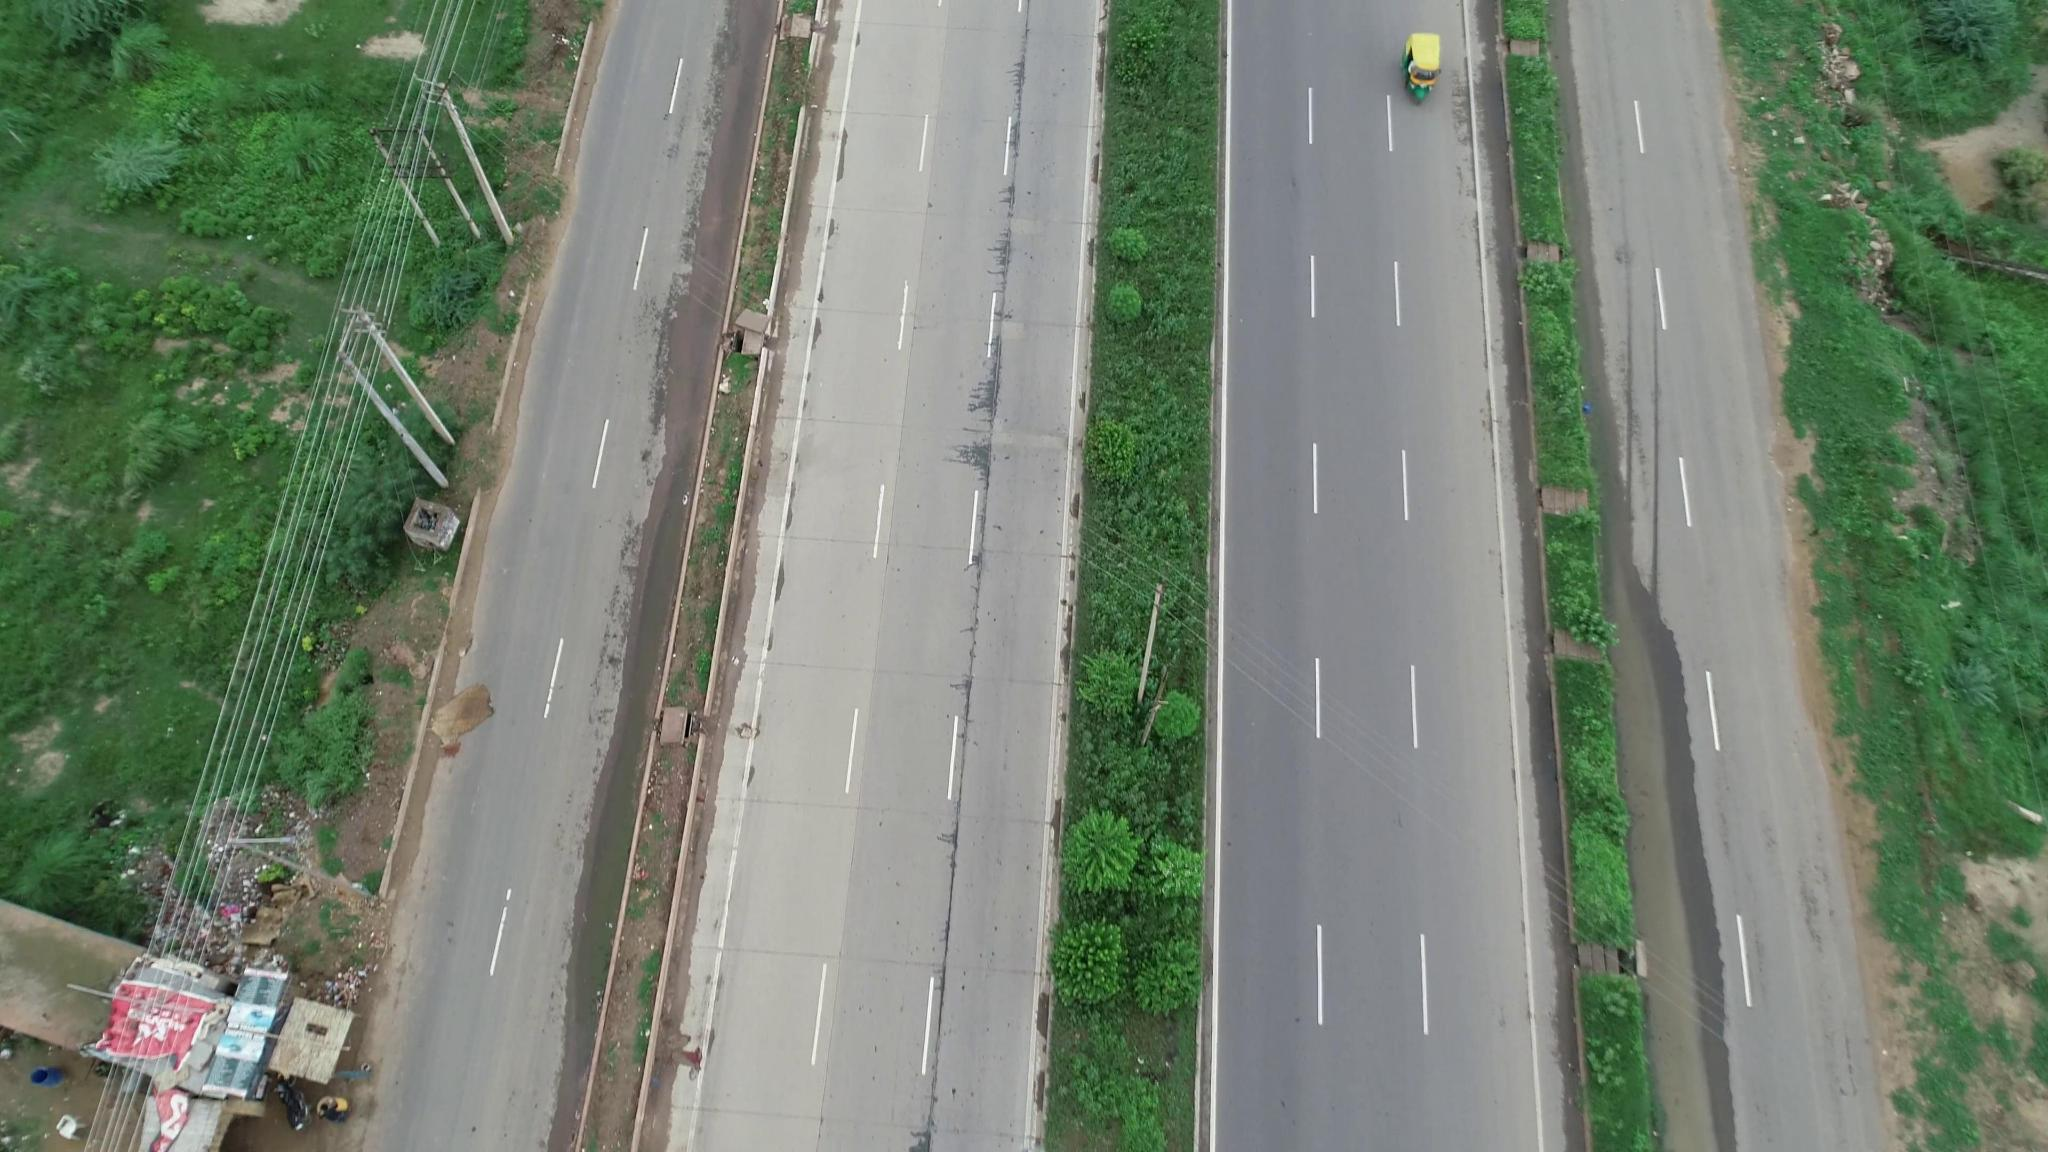Waterlogging: (1605, 606, 1730, 1149)
